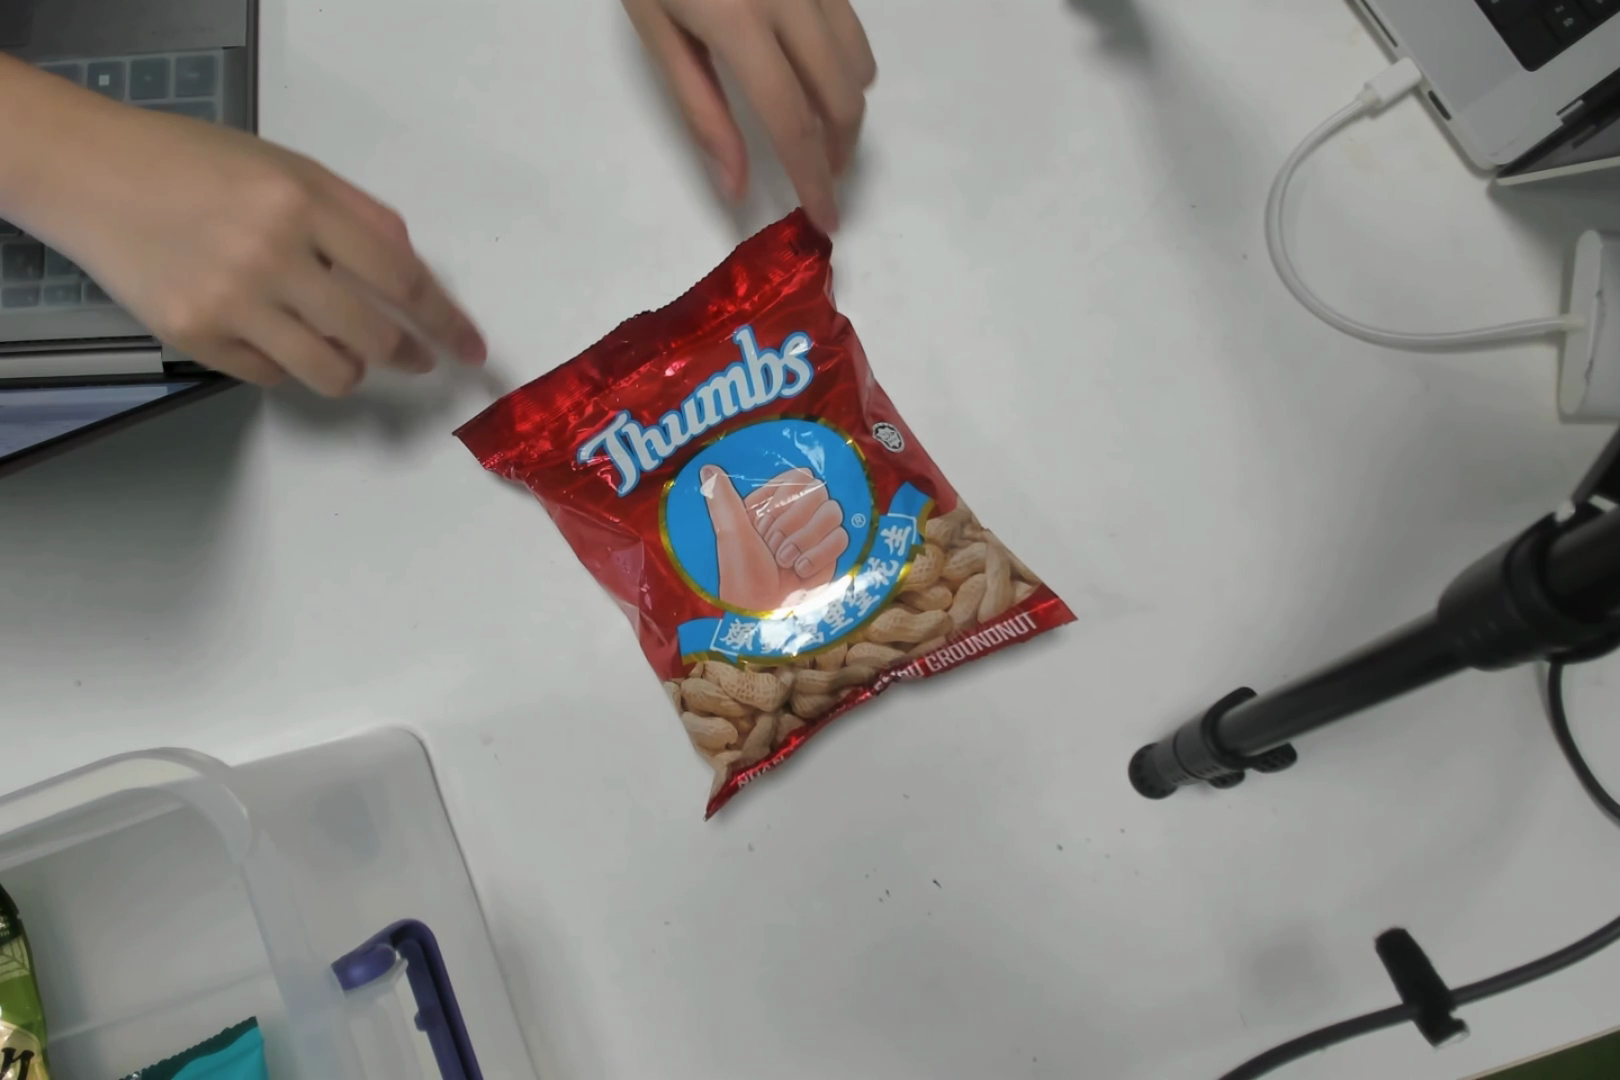Nuts_100-199g_Halal_NonHealthy: (548, 297, 1027, 770)
